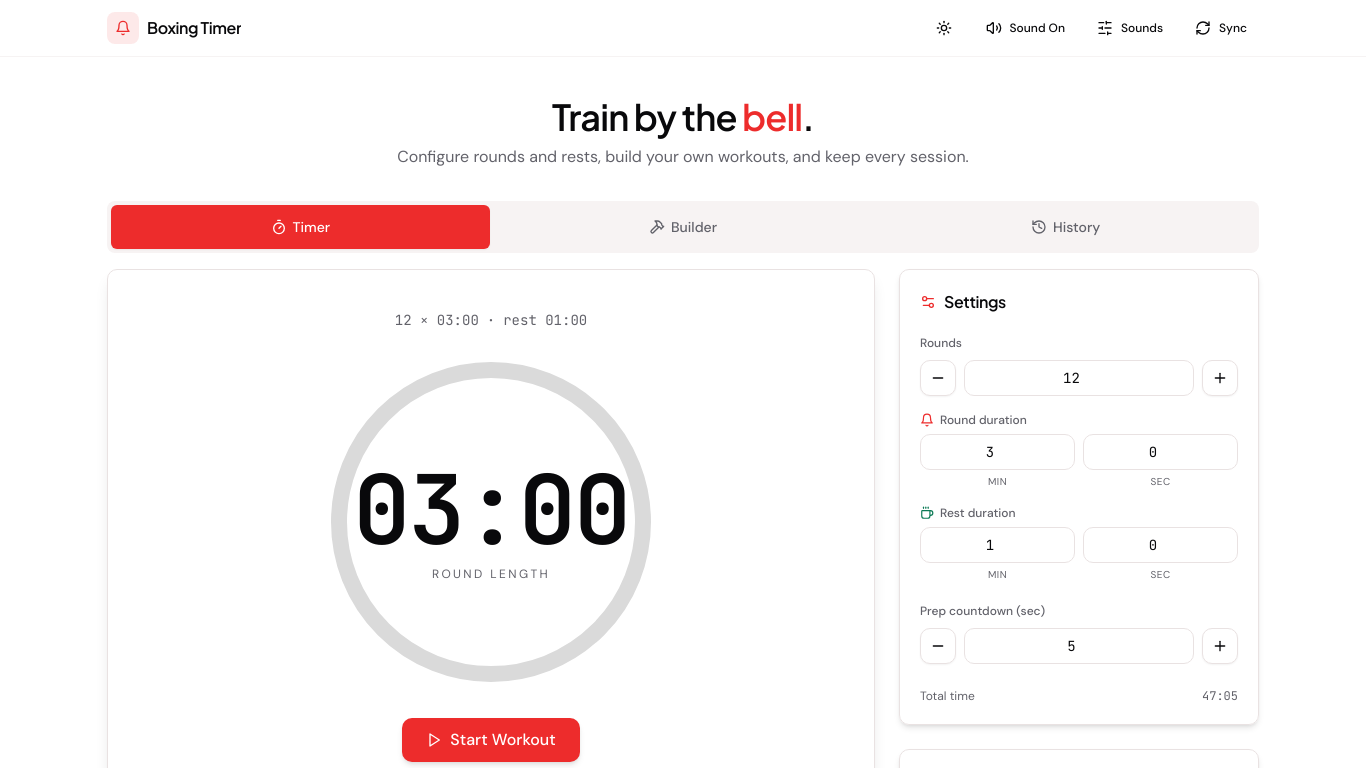
Test case: BoxingApp sync surface › opens sync as a dialog at 640 px and up
Click the button with aria-label "sync devices".
click(1221, 28)  # box top-left (1183, 6), bottom-right (1259, 50)
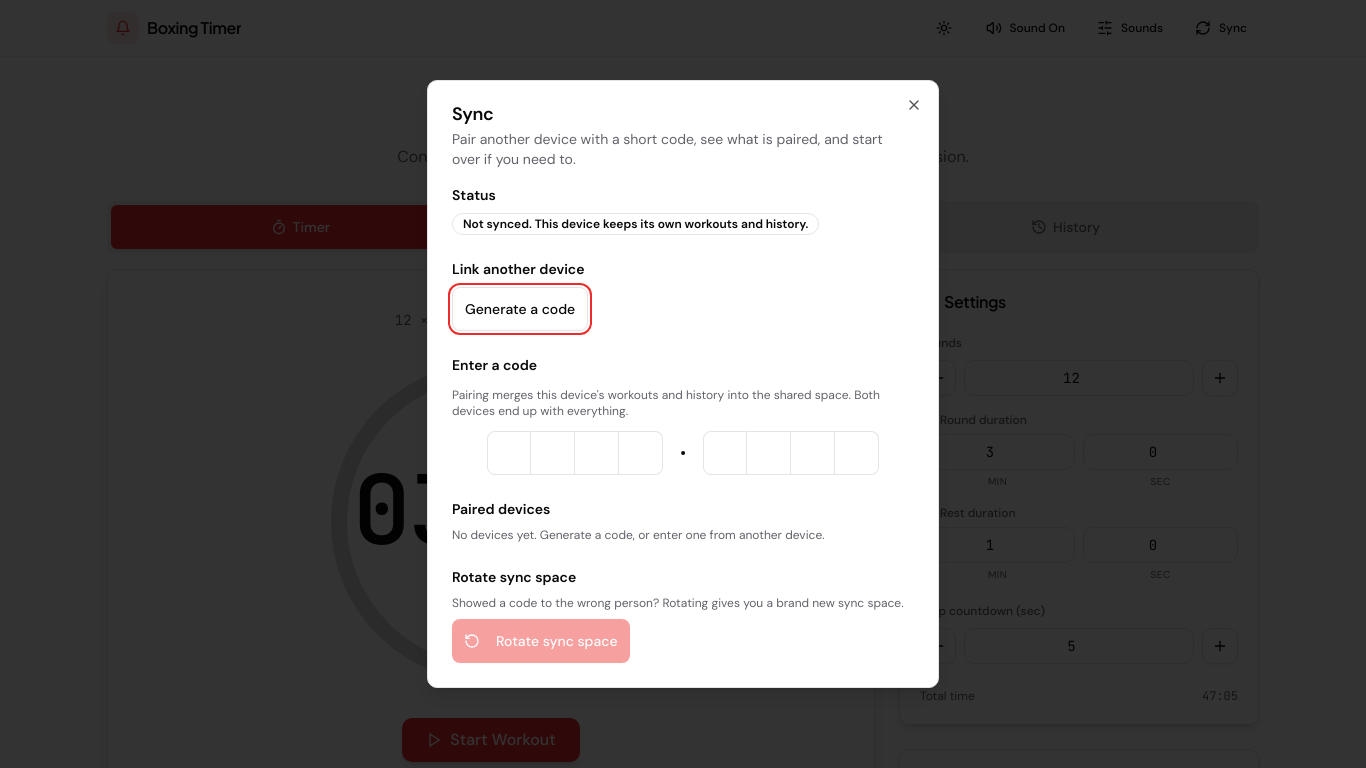
expect the heading "Status" is shown: met, box top-left (452, 186), bottom-right (496, 204)
